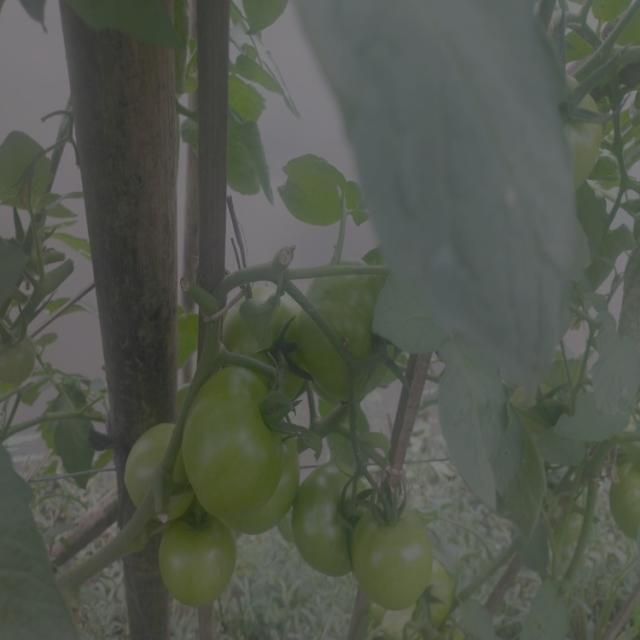tomato: (184, 367, 301, 532), (298, 289, 383, 393), (358, 493, 429, 615), (295, 460, 359, 583), (160, 524, 237, 613), (127, 420, 191, 525), (557, 77, 605, 180), (222, 292, 295, 354), (608, 457, 640, 544), (520, 387, 572, 438), (422, 568, 456, 628), (556, 498, 592, 546)
